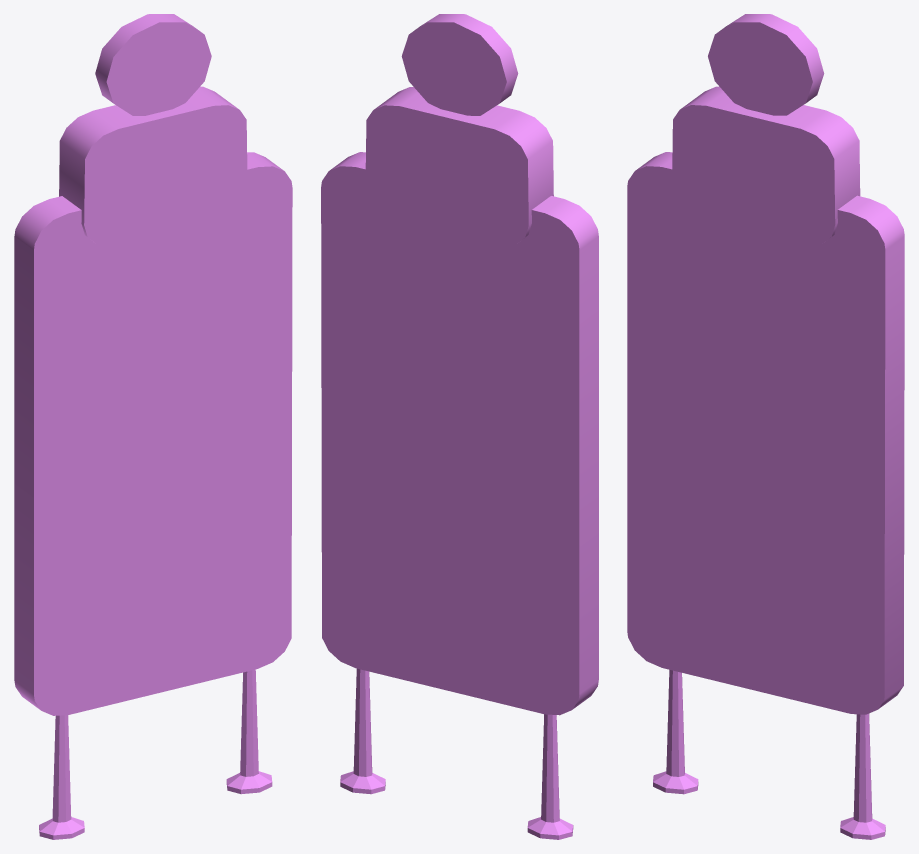
Rendered from MarketMenu.fbx.
3 renders of one model, left to right at view 1: azimuth 30°, elevation 25°; view 2: azimuth 150°, elevation 25°; view 3: azimuth 330°, elevation 25°, orthographic.
Visible parts, largest first — view 1: Cylinder092, Object086; view 2: Cylinder092, Object086; view 3: Cylinder092, Object086.
Part boxes in pixels (box(x1,y1,x2,y2)): Cylinder092: box(14, 14, 292, 715); Object086: box(39, 669, 272, 839); Cylinder092: box(321, 14, 598, 715); Object086: box(340, 668, 573, 839); Cylinder092: box(627, 14, 904, 714); Object086: box(653, 669, 885, 839).
Size of the model in its own units: 4.96 by 14.49 by 0.8373.
